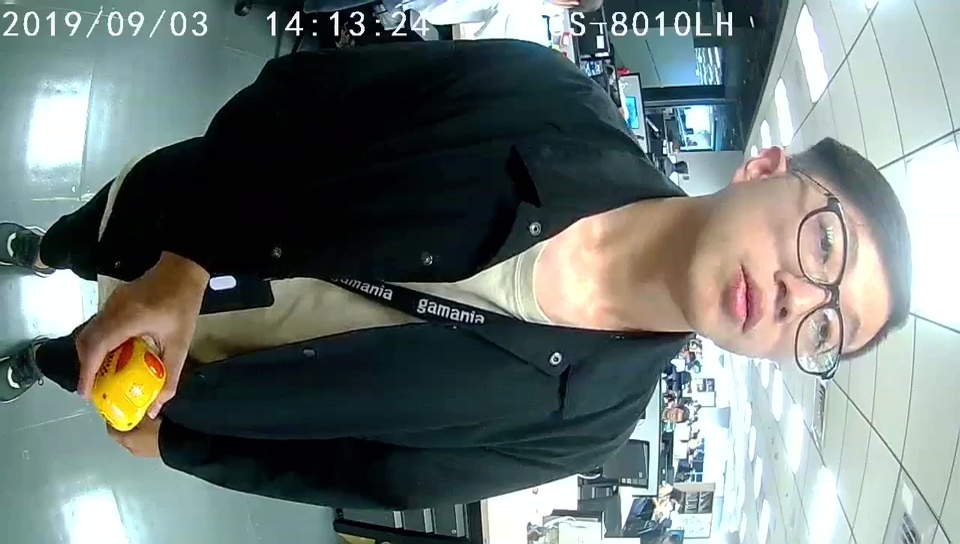car: (92, 336, 166, 431)
